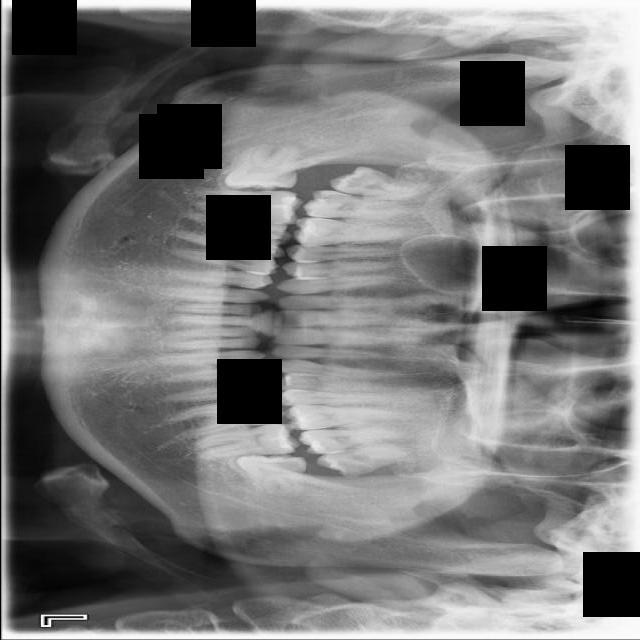3M ESPE Implant: (326, 162, 439, 205)
73: (53, 611, 61, 614)
BioHorizons Implant: (297, 428, 414, 455)
BioLife Implant: (316, 438, 420, 483)
Biomet 3i Implant: (234, 452, 307, 499)
Blue Sky Bio Implant: (191, 422, 300, 460)
Caries: (300, 187, 418, 228)
Implant: (191, 184, 303, 226)
Keystone Dental Implant: (221, 143, 298, 191)
